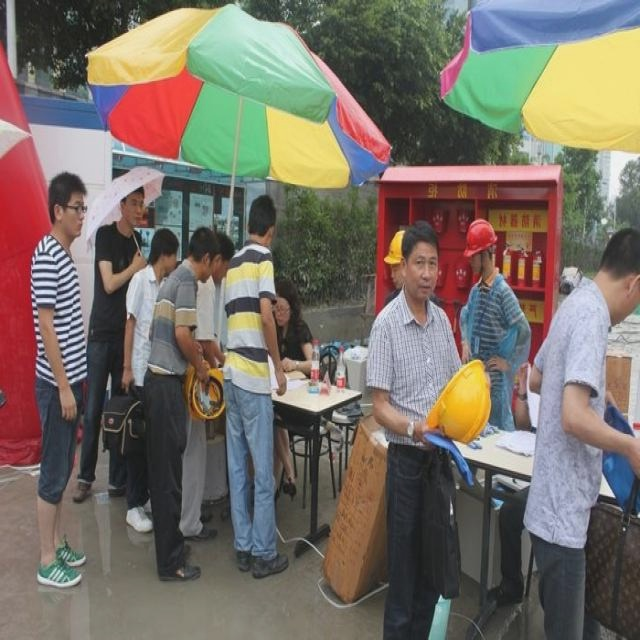Sin_Casco_Mascarrilla: (601, 229, 640, 322), (402, 221, 438, 300), (48, 172, 85, 242), (249, 191, 275, 244)
Sin_Chaleco: (33, 239, 83, 382), (225, 245, 272, 385)
